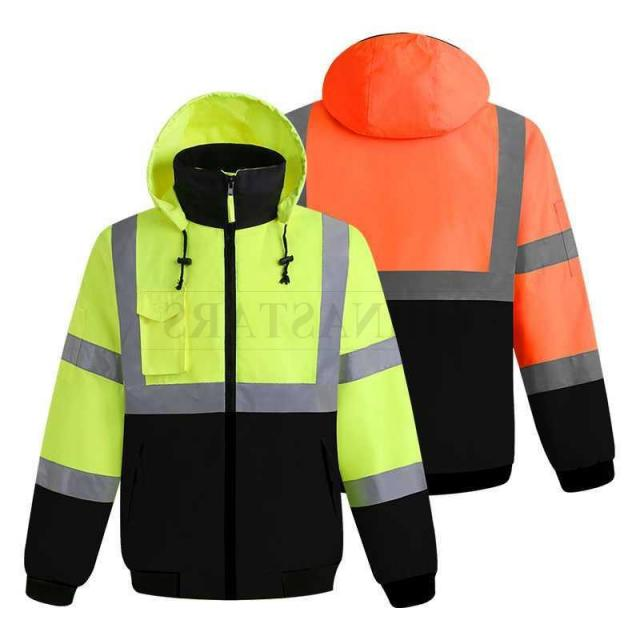Reflective-Jacket: (6, 200, 464, 614), (278, 58, 636, 510)
